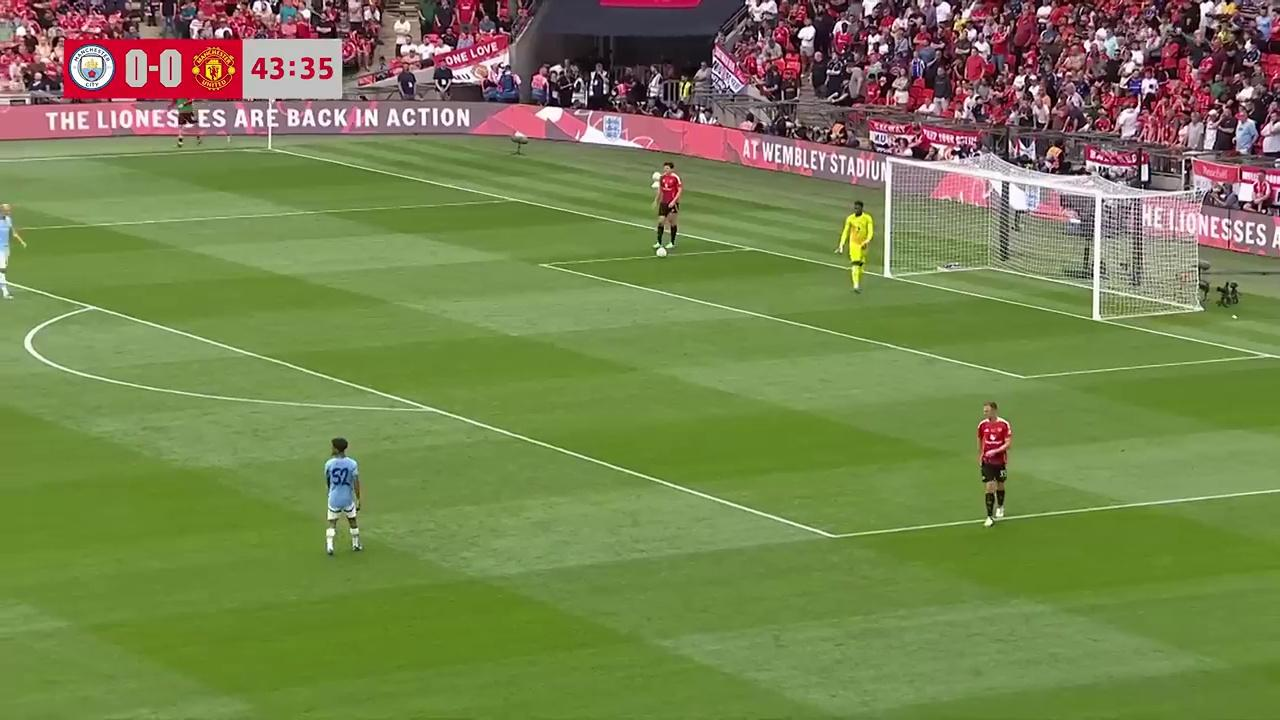ball: (652, 244, 670, 261)
player: (323, 436, 363, 556), (977, 401, 1012, 527), (838, 201, 873, 293), (652, 160, 684, 257), (0, 203, 25, 299)
